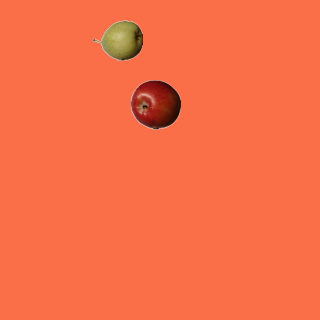Apple Braeburn: (130, 79, 180, 129)
Pear: (92, 15, 142, 65)
